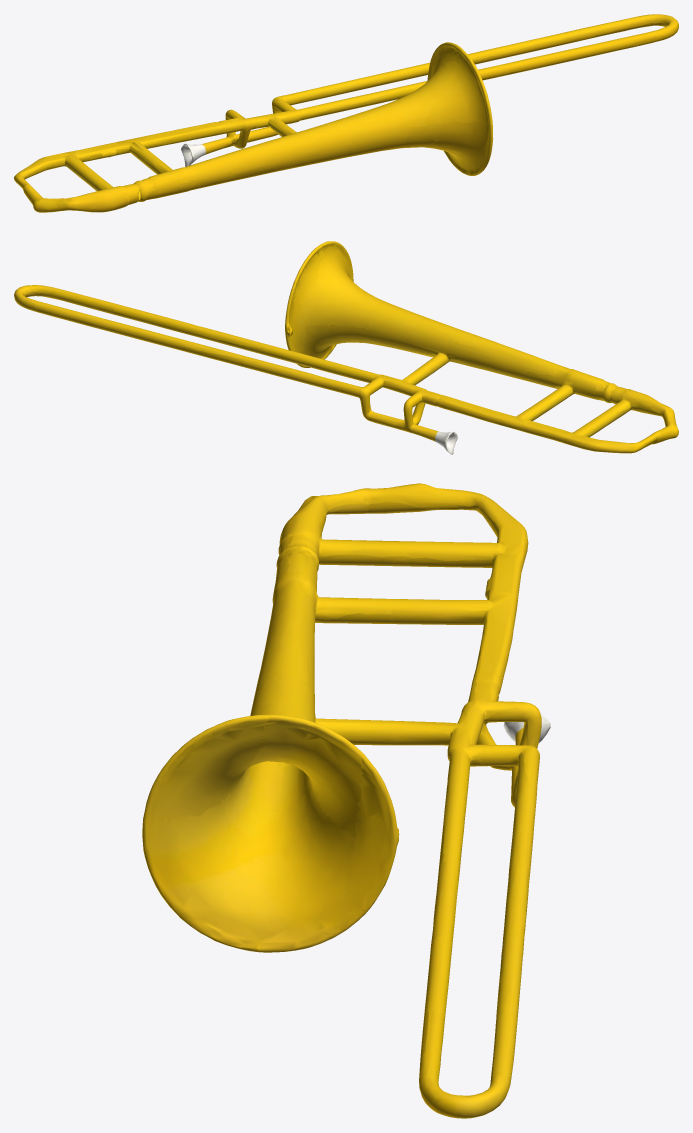
Rendered from trombone.glb.
The picture shows the model from 3 angles, top to bottom: view 1: azimuth 30°, elevation 25°; view 2: azimuth 150°, elevation 25°; view 3: azimuth 270°, elevation 25°; orthographic projection. The views are drawn at different scales.
Parts seen in each view (by area): view 1: mesh_node; view 2: mesh_node; view 3: mesh_node.
Boxes of the visible parts, <box> form: mesh_node: <box>14,14,678,212</box>; mesh_node: <box>14,241,678,454</box>; mesh_node: <box>142,483,550,1118</box>.
Size of the model in its own units: 1.9 by 0.3366 by 0.527.
Materials: 1 (1 with a texture image).
